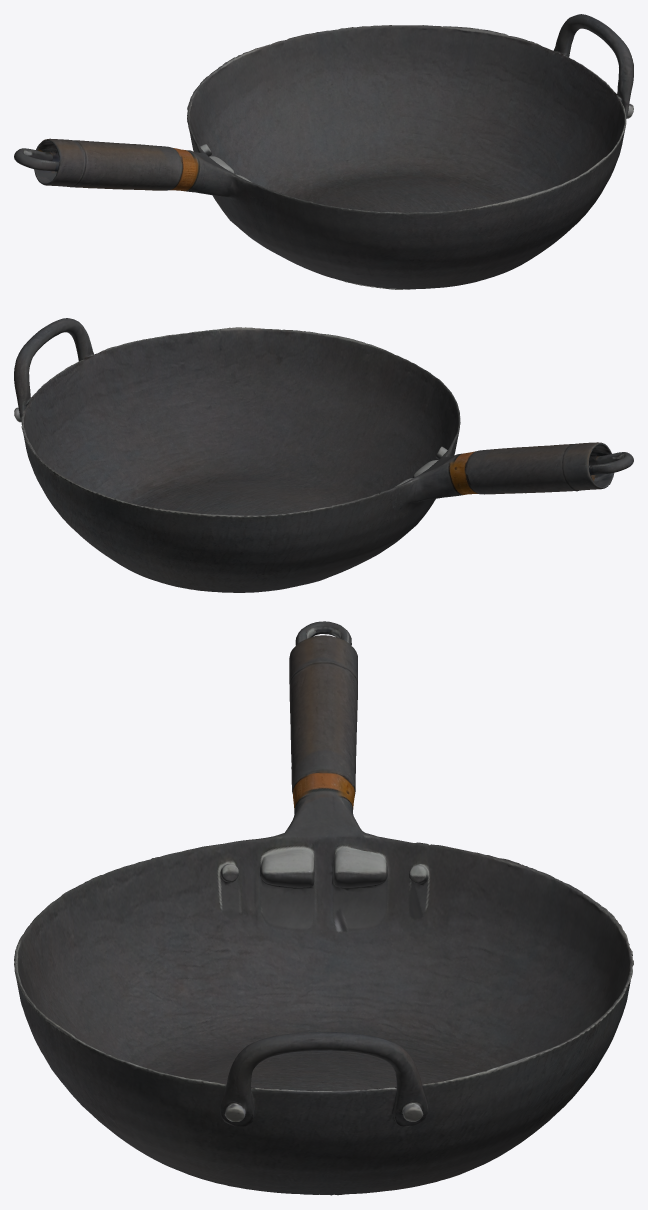
The model's file is Wok.fbx.
3 views of the same model, one above another, from view 1: azimuth 30°, elevation 25°; view 2: azimuth 150°, elevation 25°; view 3: azimuth 270°, elevation 25° (orthographic). The views are drawn at different scales.
Parts seen in each view (by area): view 1: texture_mapping; view 2: texture_mapping; view 3: texture_mapping.
Part boxes in pixels (<box>): texture_mapping: <box>14,14,633,289</box>; texture_mapping: <box>14,318,633,592</box>; texture_mapping: <box>14,621,633,1195</box>.
Size of the model in its own units: 100 by 29.71 by 65.44.
1 material, 1 textured.
